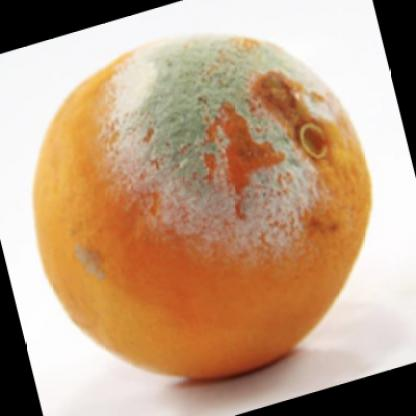rotten_orange: (26, 27, 381, 386)
